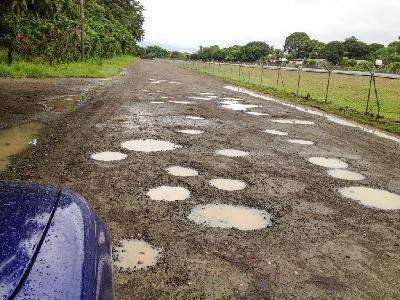pothole: (186, 198, 276, 231), (110, 235, 163, 272), (336, 183, 399, 210), (146, 182, 193, 202), (120, 137, 186, 150), (305, 154, 351, 170), (207, 174, 246, 190), (164, 162, 202, 178), (326, 168, 367, 182), (90, 148, 130, 161), (271, 114, 315, 124), (214, 146, 249, 157), (220, 100, 262, 109), (171, 125, 207, 134), (260, 127, 289, 135), (288, 137, 316, 145), (243, 108, 270, 115), (183, 112, 207, 119)
